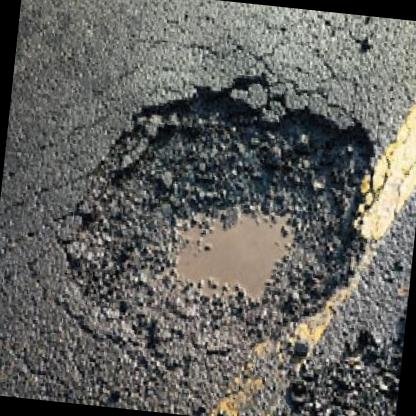pothole: (49, 49, 386, 388)
